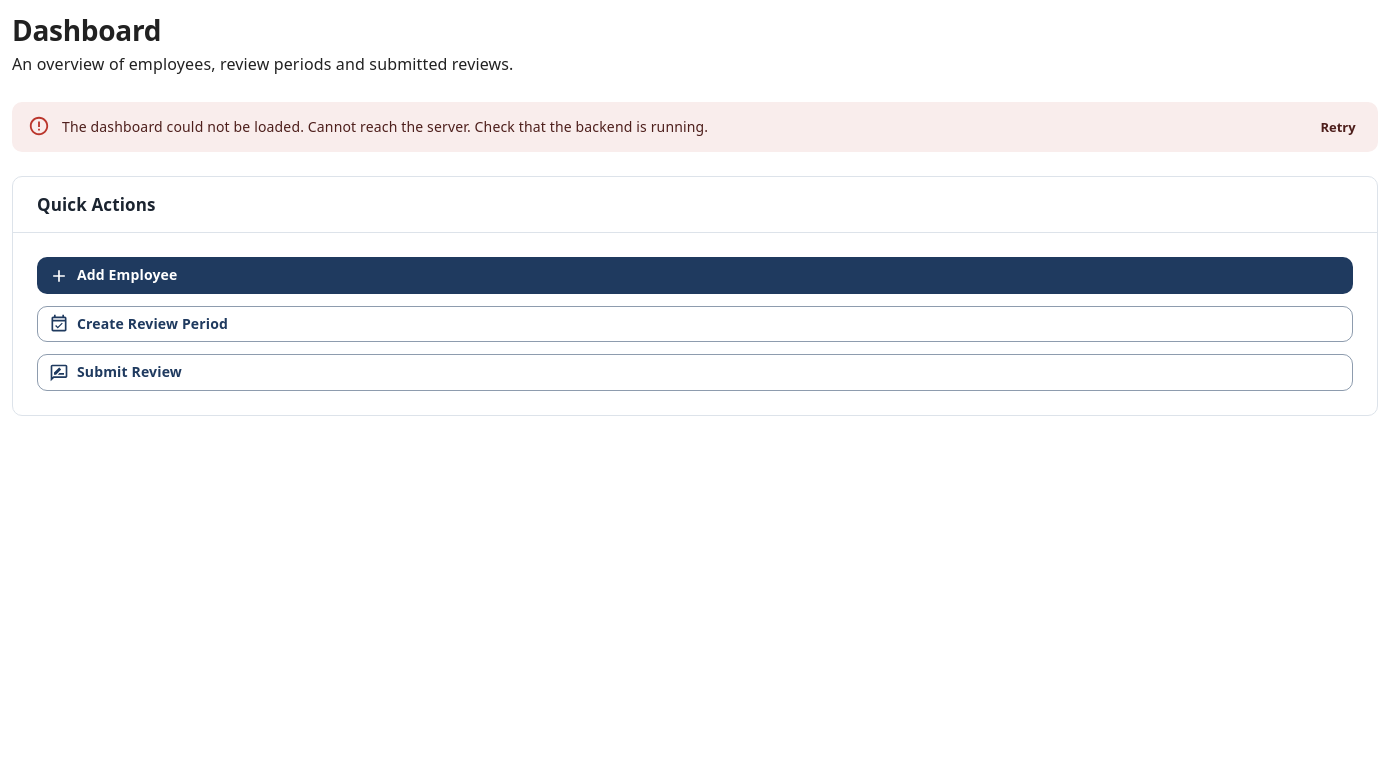
DashboardPage › shows an error with a Retry button, and recovers when retried
The image size is (1378, 780).
Expected: the element "Quick Actions" is shown, [12, 176, 1377, 416]
Expected: the element "Total Employees" is not shown
Click the button "Retry" at (1338, 127), box [1306, 112, 1370, 143]
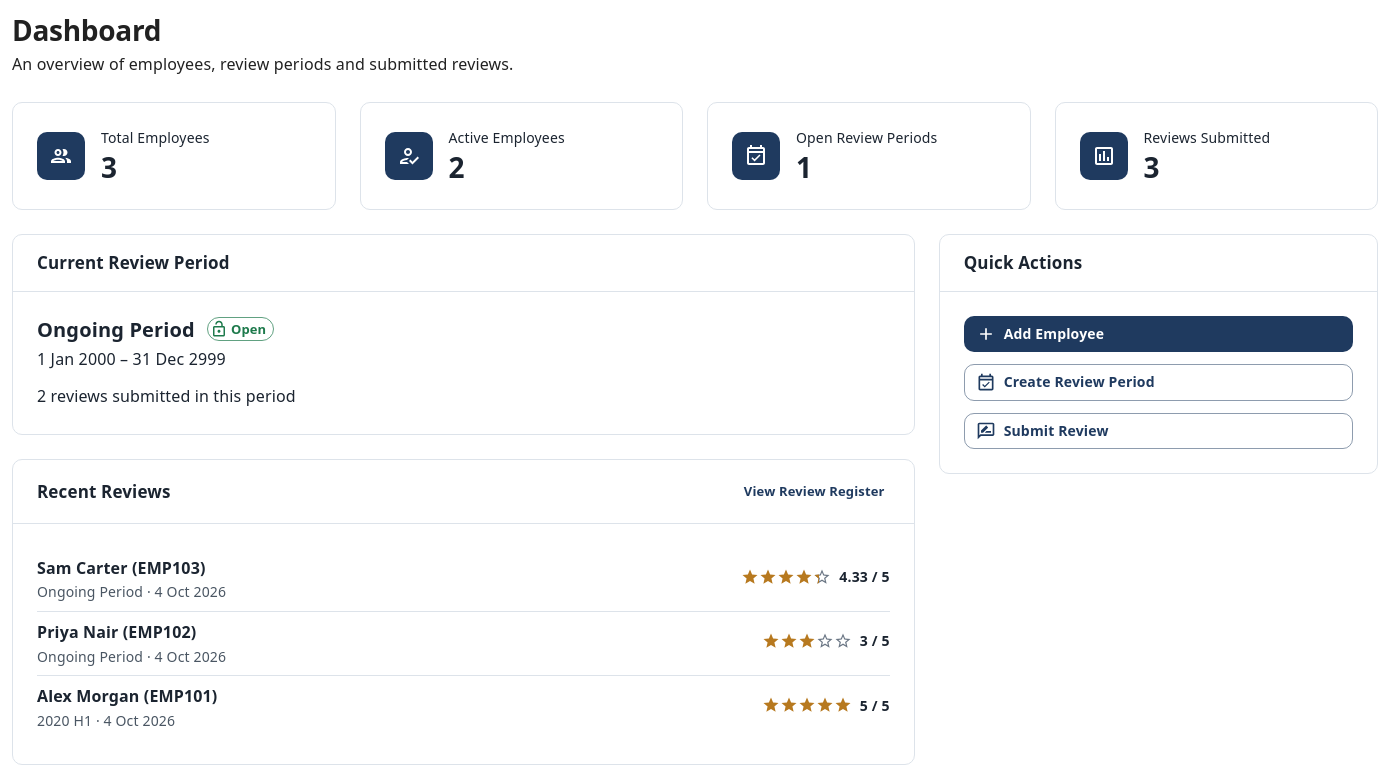
Now the text "3" below "Total Employees" is shown, box [101, 148, 117, 186]
Now the message is gone
